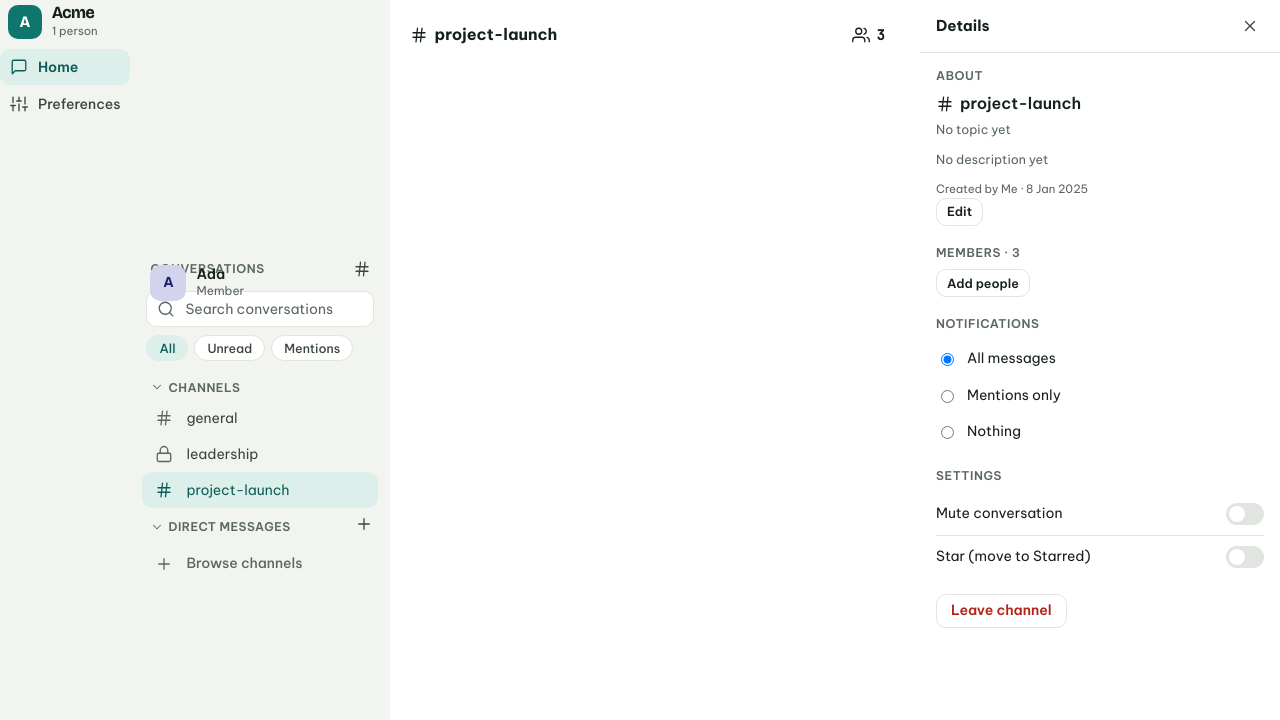
it: after a leave (R25) › a 403 on a write makes the page draw the not-found view and refresh the store
Click the switch named "Mute conversation" in the row of "Mute conversation".
click(1245, 514)  # box [1226,503,1264,525]
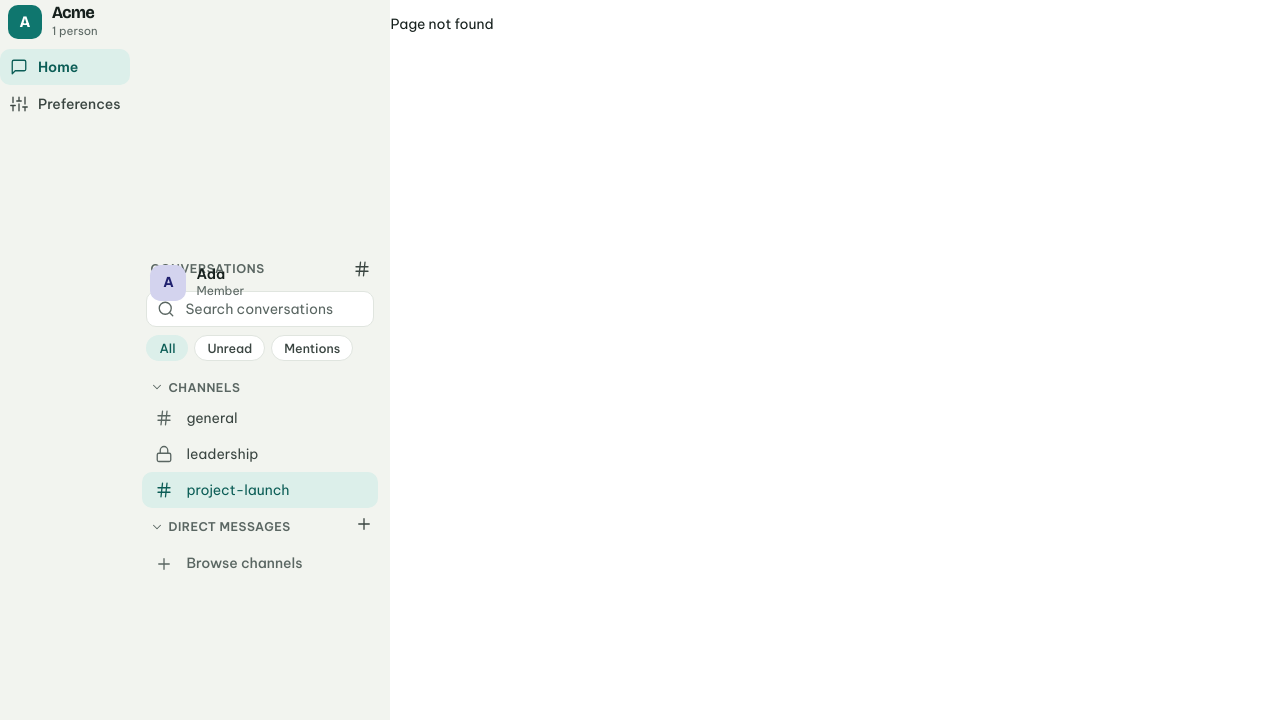
expect the text "Page not found" is shown: met, box [390,15,494,33]
expect the element with test id "conversation-page" is gone: met
expect the button with id "conversation-details" is gone: met
